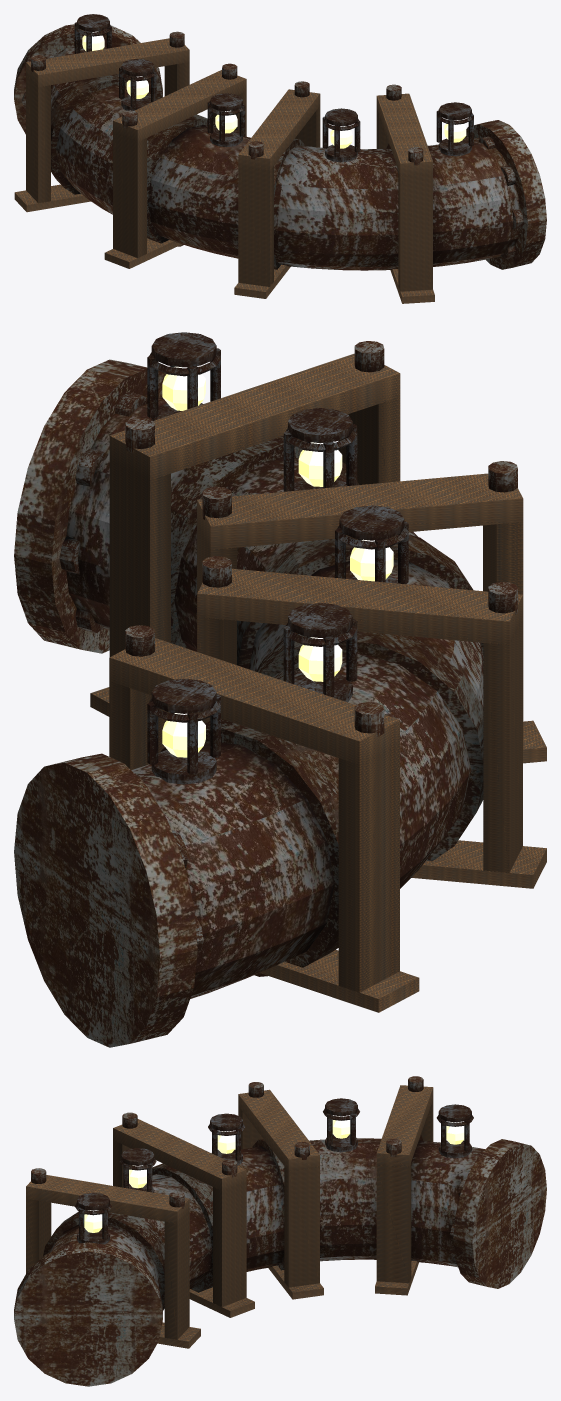
Rendered from pipe_curve_sharp.glb.
3 renders of one model, top to bottom at view 1: azimuth 30°, elevation 25°; view 2: azimuth 150°, elevation 25°; view 3: azimuth 270°, elevation 25°, orthographic. The views are drawn at different scales.
Parts seen in each view (by area): view 1: PCS_Pipe, PCS_Brackets, PCS_Lamps_Frame, PCS_Flange_E_disc, PCS_Bands, PCS_Flange_NE_disc, PCS_BracketBolts, PCS_Bolts; view 2: PCS_Brackets, PCS_Pipe, PCS_Flange_NE_disc, PCS_Bands, PCS_Lamps_Frame, PCS_Flange_E_disc, PCS_BracketBolts, PCS_Bolts, PCS_Lamp1_bulb, PCS_Lamp3_bulb, PCS_Lamp4_bulb, PCS_Lamp0_bulb (+1 smaller); view 3: PCS_Brackets, PCS_Pipe, PCS_Flange_E_disc, PCS_Flange_NE_disc, PCS_Lamps_Frame, PCS_Bands, PCS_BracketBolts.
Boxes of the visible parts, bbox=[...] form: PCS_Pipe: bbox=[51, 46, 519, 270]; PCS_Brackets: bbox=[14, 38, 434, 303]; PCS_Lamps_Frame: bbox=[74, 14, 473, 162]; PCS_Flange_E_disc: bbox=[464, 120, 546, 269]; PCS_Bands: bbox=[51, 74, 398, 269]; PCS_Flange_NE_disc: bbox=[14, 24, 162, 134]; PCS_BracketBolts: bbox=[31, 31, 423, 165]; PCS_Bolts: bbox=[22, 41, 523, 259]; PCS_Brackets: bbox=[90, 353, 546, 1012]; PCS_Pipe: bbox=[66, 395, 483, 998]; PCS_Flange_NE_disc: bbox=[14, 753, 197, 1047]; PCS_Bands: bbox=[160, 436, 483, 976]; PCS_Lamps_Frame: bbox=[147, 332, 408, 784]; PCS_Flange_E_disc: bbox=[14, 359, 166, 653]; PCS_BracketBolts: bbox=[125, 341, 517, 736]; PCS_Bolts: bbox=[59, 392, 203, 952]; PCS_Lamp1_bulb: bbox=[298, 442, 342, 486]; PCS_Lamp3_bulb: bbox=[298, 637, 342, 681]; PCS_Lamp4_bulb: bbox=[162, 713, 205, 757]; PCS_Lamp0_bulb: bbox=[162, 366, 205, 410]; PCS_Brackets: bbox=[26, 1085, 433, 1348]; PCS_Pipe: bbox=[47, 1138, 484, 1290]; PCS_Flange_E_disc: bbox=[14, 1242, 162, 1386]; PCS_Flange_NE_disc: bbox=[453, 1139, 546, 1288]; PCS_Lamps_Frame: bbox=[74, 1098, 473, 1244]; PCS_Bands: bbox=[43, 1135, 423, 1310]; PCS_BracketBolts: bbox=[31, 1076, 423, 1208].
Size of the model in its own units: 0.6822 by 0.323 by 0.9655.
6 materials, 5 textured.
